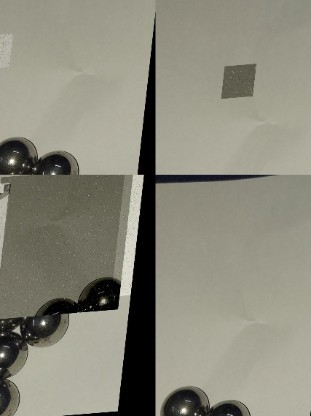ironball: (22, 294, 76, 346), (156, 381, 209, 414), (77, 274, 122, 311), (0, 131, 36, 173), (35, 145, 81, 176), (0, 328, 29, 377), (207, 394, 252, 414), (0, 371, 19, 414)
